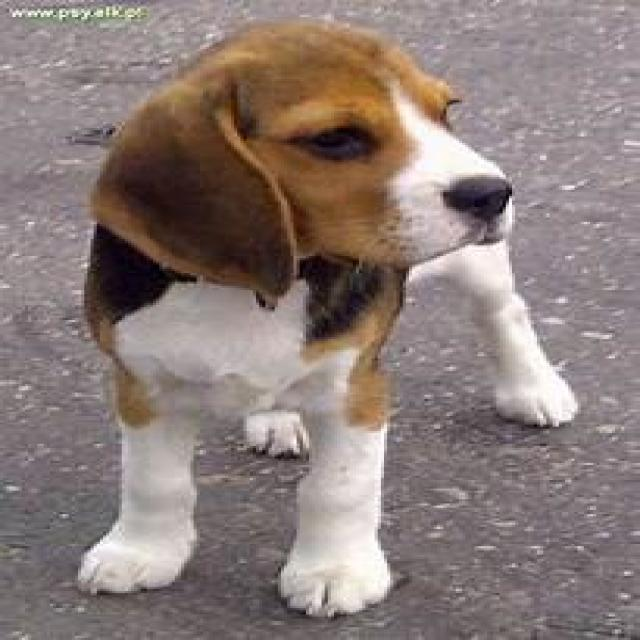animal: (29, 20, 580, 626)
